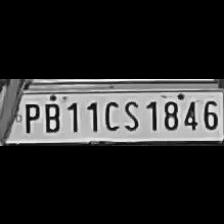1: (64, 97, 82, 132), (82, 98, 100, 132), (141, 96, 159, 130)
4: (180, 94, 198, 130)
6: (200, 95, 218, 129)
8: (160, 94, 180, 130)
B: (40, 97, 62, 132)
C: (100, 97, 119, 131)
P: (19, 99, 41, 133)
S: (120, 97, 140, 131)
